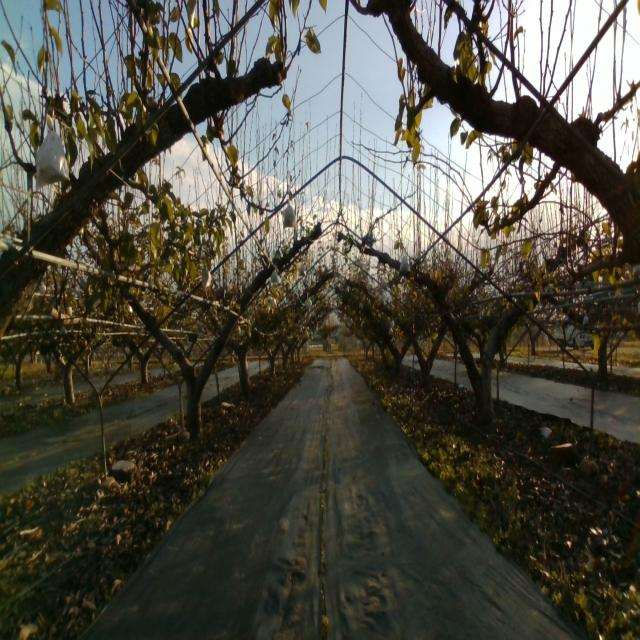pearbags: (35, 112, 71, 191), (283, 198, 297, 228), (400, 254, 411, 274)
